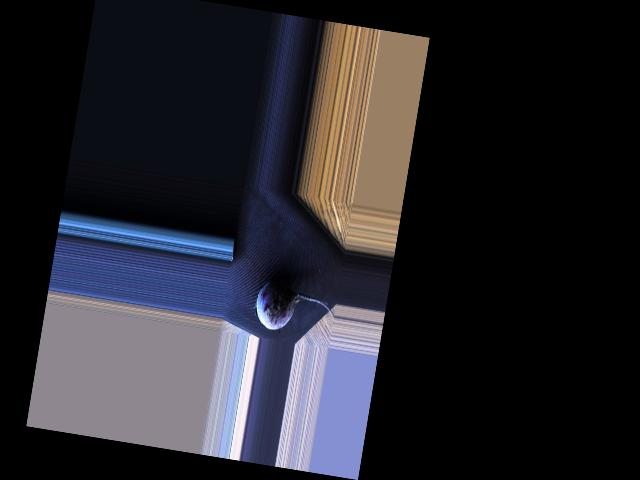beet: (252, 275, 338, 338)
